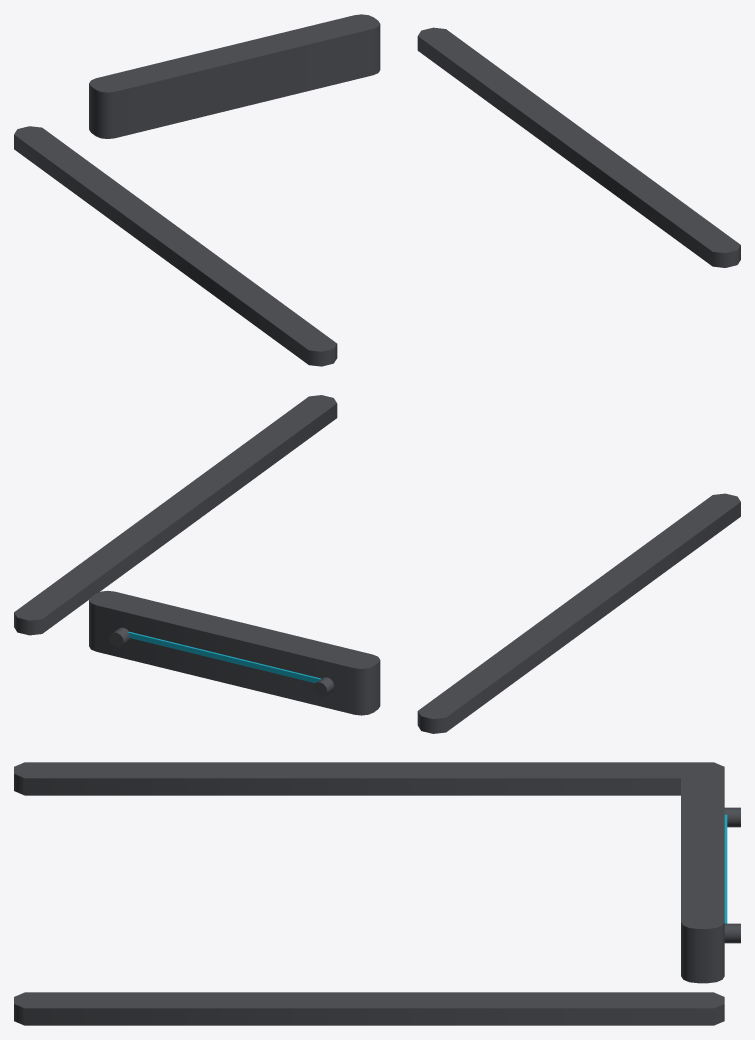
File: mcc1_mount.obj
The picture shows the model from 3 angles, top to bottom: view 1: azimuth 30°, elevation 25°; view 2: azimuth 150°, elevation 25°; view 3: azimuth 270°, elevation 25°; orthographic projection. The views are drawn at different scales.
Visible parts, largest first — view 1: mcc1_mount; view 2: mcc1_mount; view 3: mcc1_mount.
Boxes of the visible parts, box(x1,y1,x2,y2) form: mcc1_mount: box(14, 14, 740, 366); mcc1_mount: box(14, 395, 740, 733); mcc1_mount: box(14, 762, 740, 1025).
Size of the model in its own units: 1.07 by 0.11 by 1.33.
